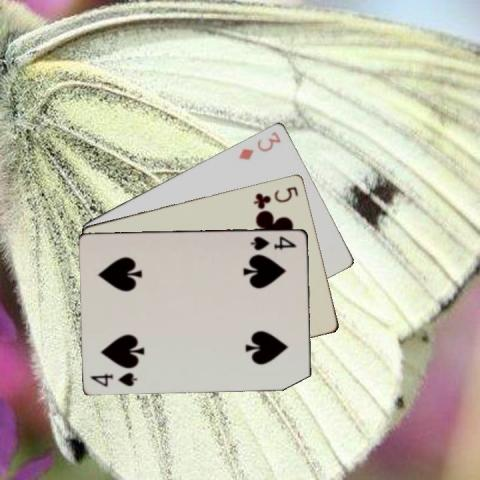3d: (235, 128, 283, 161)
4s: (88, 369, 139, 387), (248, 233, 298, 251)
5c: (251, 183, 300, 209)
